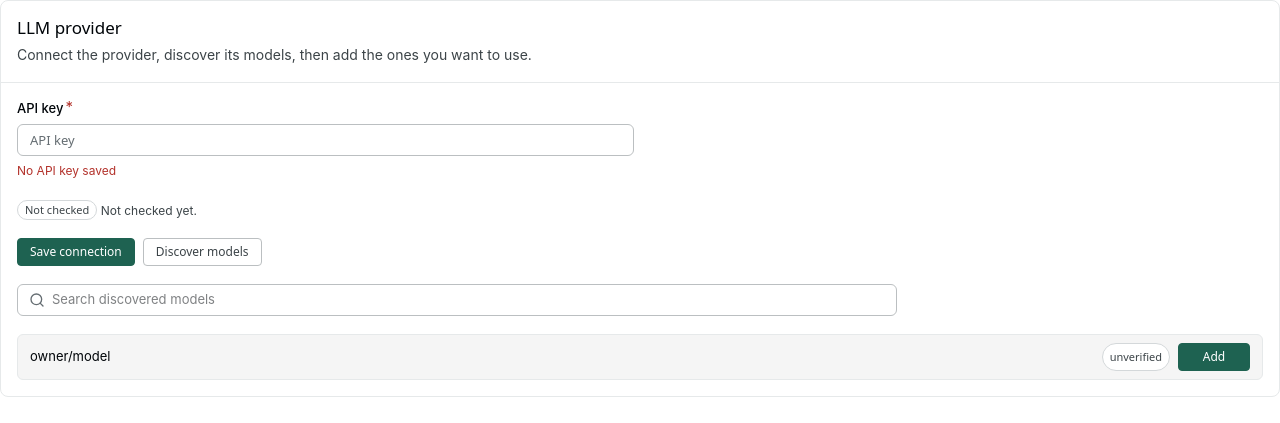
Test: LlmProviderPanel › distinguishes an empty search result from an undiscovered catalog
Expected: the text "owner/model" is shown, [30,348,110,364]
Type "no-match" into the search field with placeholder "Search discovered models" at (468, 300), box [52,290,885,309]
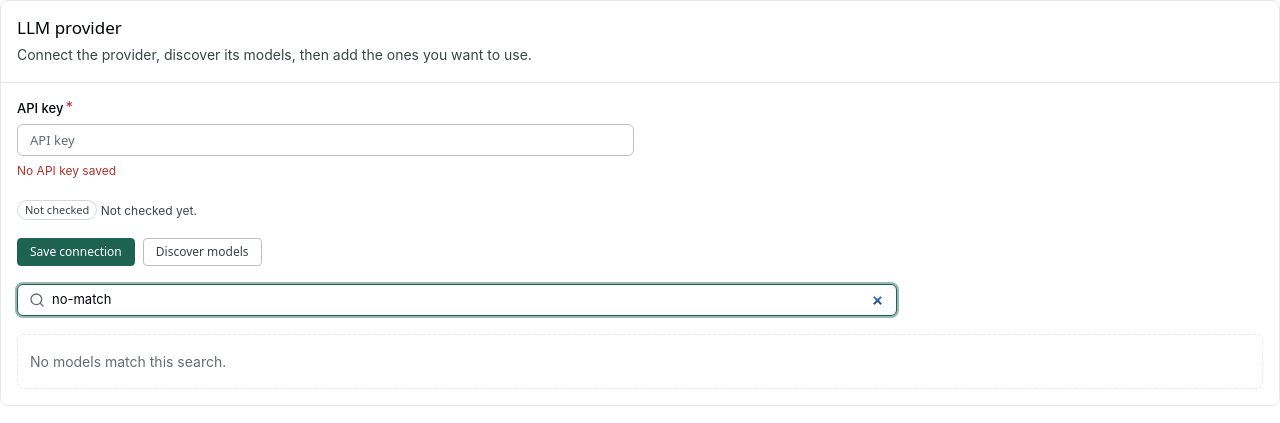
Now the text "No models match this search." is shown, box [30,352,226,370]
